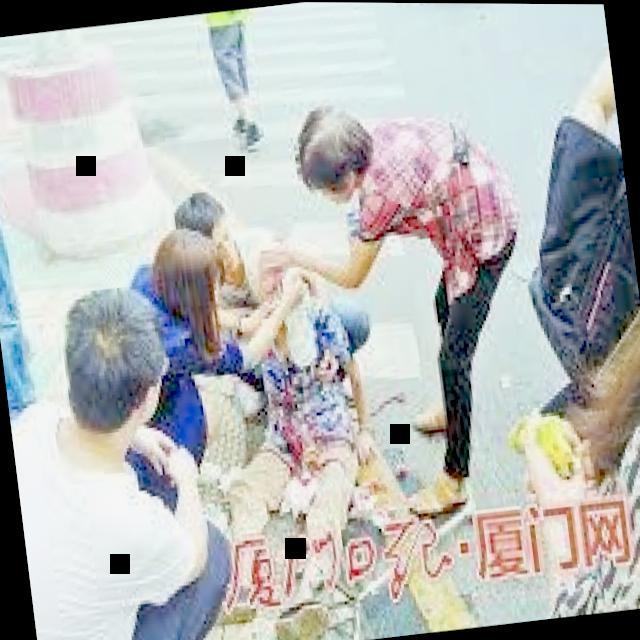Fall-Detected: (450, 33, 640, 608)
